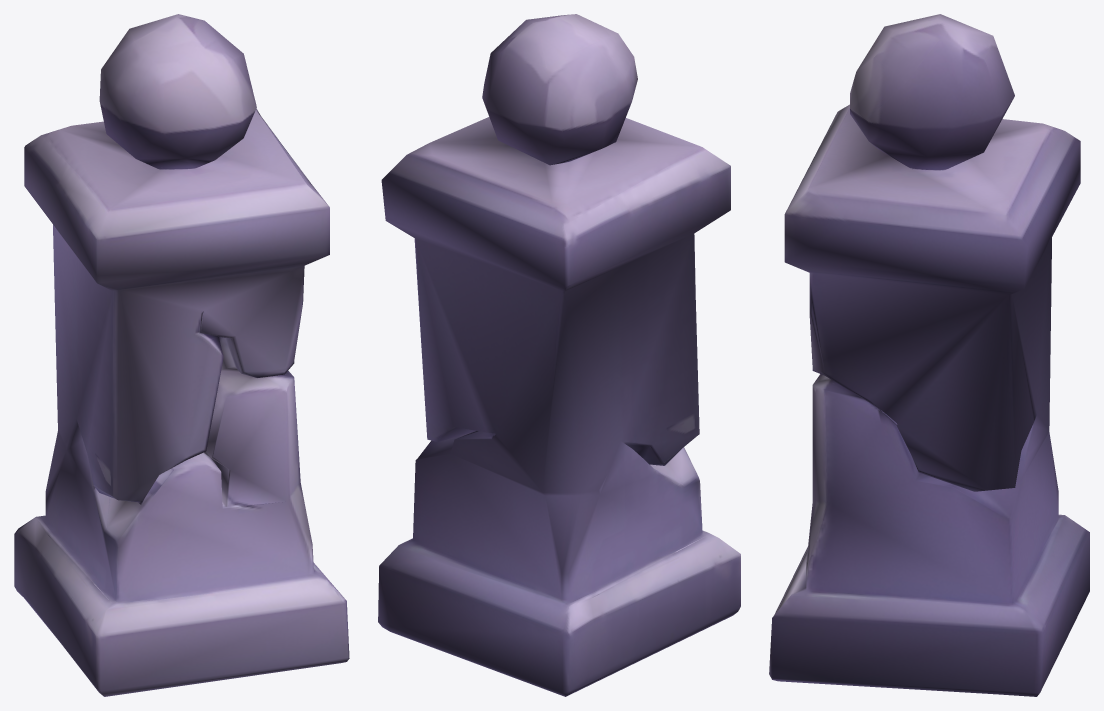
The picture shows the model from 3 angles, left to right: view 1: azimuth 30°, elevation 25°; view 2: azimuth 150°, elevation 25°; view 3: azimuth 270°, elevation 25°; orthographic projection. The views are drawn at different scales.
Parts seen in each view (by area): view 1: tower-tomb-3; view 2: tower-tomb-3; view 3: tower-tomb-3.
Part boxes in pixels (x1,y1,x2,y2): tower-tomb-3: [14, 14, 349, 696]; tower-tomb-3: [378, 14, 740, 696]; tower-tomb-3: [769, 14, 1089, 696].
Size of the model in its own units: 0.1937 by 0.4286 by 0.2016.
1 material, 1 textured.
